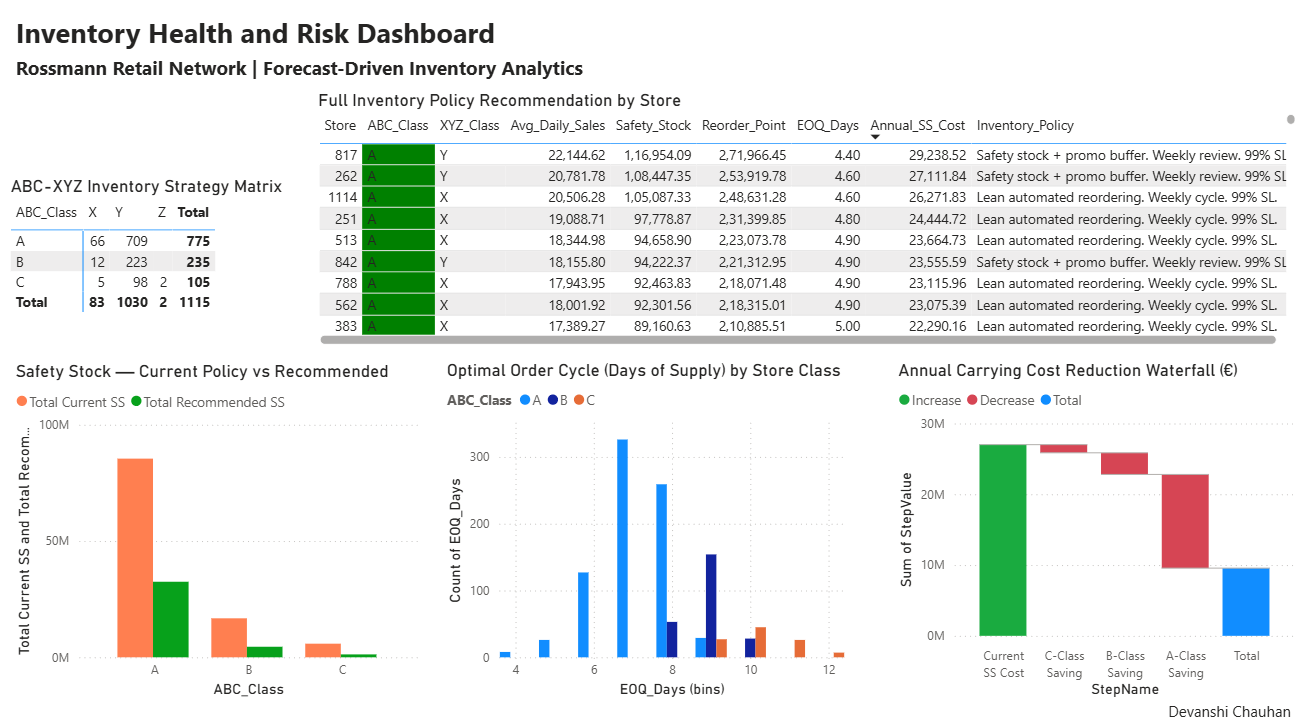

This screenshot's page, from the dashboard's own definition file:
{"tool":"powerbi","page":{"name":"Inventory Health and Risk","canvas":[1280,720],"ordinal":2},"visuals":[{"type":"textbox","box":[18.3,15.9,480.6,51.4],"z":0},{"type":"textbox","box":[18.3,56.3,574.7,39.1],"z":1000},{"type":"textbox","box":[1145.8,688.5,134.5,31.8],"z":2000},{"type":"pivotTable","title":"ABC-XYZ Inventory Strategy Matrix","fields":{"Columns":["pb_inventory_policy.XYZ_Class"],"Rows":["pb_inventory_policy.ABC_Class"],"Values":["CountNonNull(pb_inventory_policy.Store)"]},"box":[18.3,179.8,287.4,148],"z":3000},{"type":"tableEx","title":"Full Inventory Policy Recommendation by Store","fields":{"Values":["pb_inventory_policy.Store","pb_inventory_policy.ABC_Class","pb_inventory_policy.XYZ_Class","pb_inventory_policy.Avg_Daily_Sales","pb_inventory_policy.Safety_Stock","pb_inventory_policy.Reorder_Point","pb_inventory_policy.EOQ_Days","pb_inventory_policy.Annual_SS_Cost","pb_inventory_policy.Inventory_Policy"]},"box":[314.3,95.4,966,254.3],"z":4000},{"type":"clusteredColumnChart","title":"Safety Stock — Current Policy vs Recommended","fields":{"Category":["pb_inventory_policy.ABC_Class"],"Y":["pb_inventory_policy.Total Current SS","pb_inventory_policy.Total Recommended SS"]},"box":[18.3,360.7,403.5,333.8],"z":5000},{"type":"clusteredColumnChart","title":"Optimal Order Cycle (Days of Supply) by Store Class","fields":{"Category":["pb_inventory_policy.EOQ_Days (bins)"],"Series":["pb_inventory_policy.ABC_Class"],"Y":["CountNonNull(pb_inventory_policy.EOQ_Days)"]},"box":[440.2,359.5,398.6,335.1],"z":6000},{"type":"waterfallChart","title":"Annual Carrying Cost Reduction Waterfall (€)","fields":{"Category":["pb_waterfall_steps.StepName"],"Y":["Sum(pb_waterfall_steps.StepValue)"]},"box":[881.7,359.5,398.6,335.1],"z":7000}]}

Visuals, with their boxes in screenshot pixels (x1, y1, x2, y2), scaled from the page's 1280x720 canvas onto the 1297x721 screenshot:
textbox: Rect(19, 16, 506, 67)
textbox: Rect(19, 56, 601, 96)
textbox: Rect(1161, 689, 1296, 720)
"ABC-XYZ Inventory Strategy Matrix" pivotTable: Rect(19, 180, 310, 328)
"Full Inventory Policy Recommendation by Store" tableEx: Rect(318, 96, 1296, 350)
"Safety Stock — Current Policy vs Recommended" clusteredColumnChart: Rect(19, 361, 427, 695)
"Optimal Order Cycle (Days of Supply) by Store Class" clusteredColumnChart: Rect(446, 360, 850, 696)
"Annual Carrying Cost Reduction Waterfall (€)" waterfallChart: Rect(893, 360, 1296, 696)
